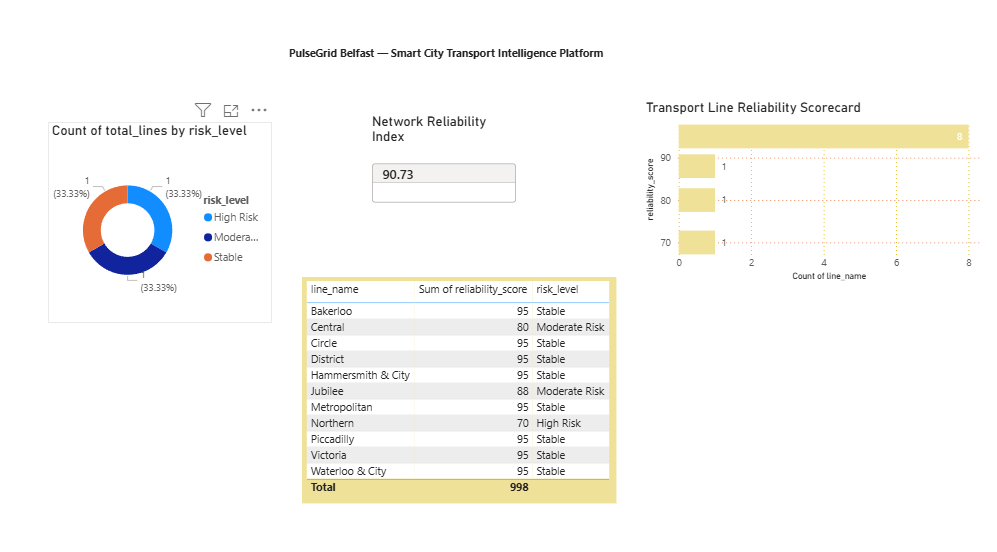

The dashboard page shown, as its layout file describes it:
{"tool":"powerbi","page":{"name":"Page 1","canvas":[1280,720],"ordinal":0},"visuals":[{"type":"cardVisual","title":"Network Reliability Index","fields":{"Rows":["executive_kpis.value"]},"box":[472.5,155,190,137.5],"z":0},{"type":"donutChart","fields":{"Category":["risk_summary.risk_level"],"Y":["CountNonNull(risk_summary.total_lines)"]},"box":[72.5,166.2,280,251.2],"z":1},{"type":"clusteredBarChart","title":"Transport Line Reliability Scorecard","fields":{"Y":["CountNonNull(transport_intelligence.line_name)"],"Category":["transport_intelligence.reliability_score"]},"box":[814.4,137.8,431.1,232.2],"z":2},{"type":"tableEx","fields":{"Values":["transport_intelligence.line_name","Sum(transport_intelligence.reliability_score)","transport_intelligence.risk_level"]},"box":[390,360,392.5,282.5],"z":3},{"type":"textbox","box":[368.8,66.2,453.8,60],"z":4}]}

Visuals, with their boxes in screenshot pixels (x1, y1, x2, y2), scaled from the page's 1280x720 canvas onto the 997x552 screenshot:
"Network Reliability Index" cardVisual: (x1=368, y1=119, x2=516, y2=224)
donutChart - risk_summary.risk_level x CountNonNull(risk_summary.total_lines): (x1=56, y1=127, x2=275, y2=320)
"Transport Line Reliability Scorecard" clusteredBarChart: (x1=634, y1=106, x2=970, y2=284)
tableEx - transport_intelligence.line_name x Sum(transport_intelligence.reliability_score): (x1=304, y1=276, x2=609, y2=493)
textbox: (x1=287, y1=51, x2=641, y2=97)
